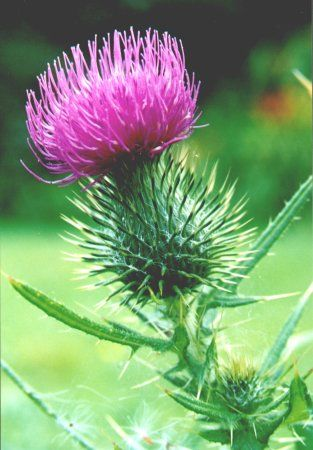thistle: (19, 34, 268, 304)
